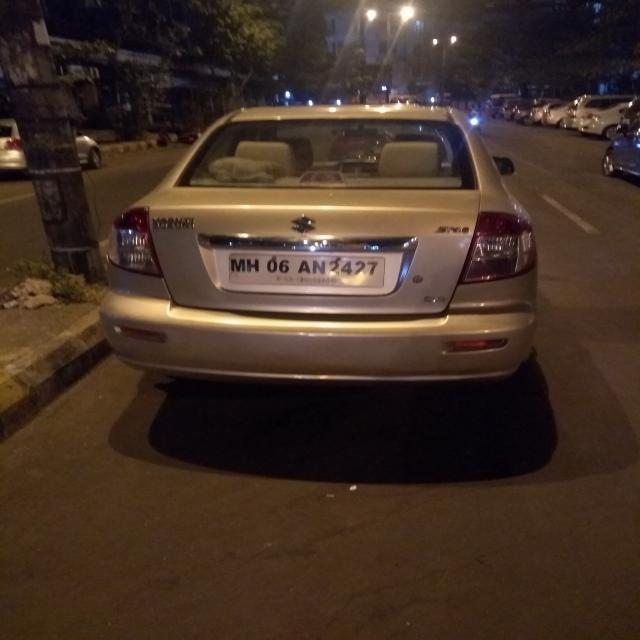Number-Plate: (230, 251, 386, 286)
